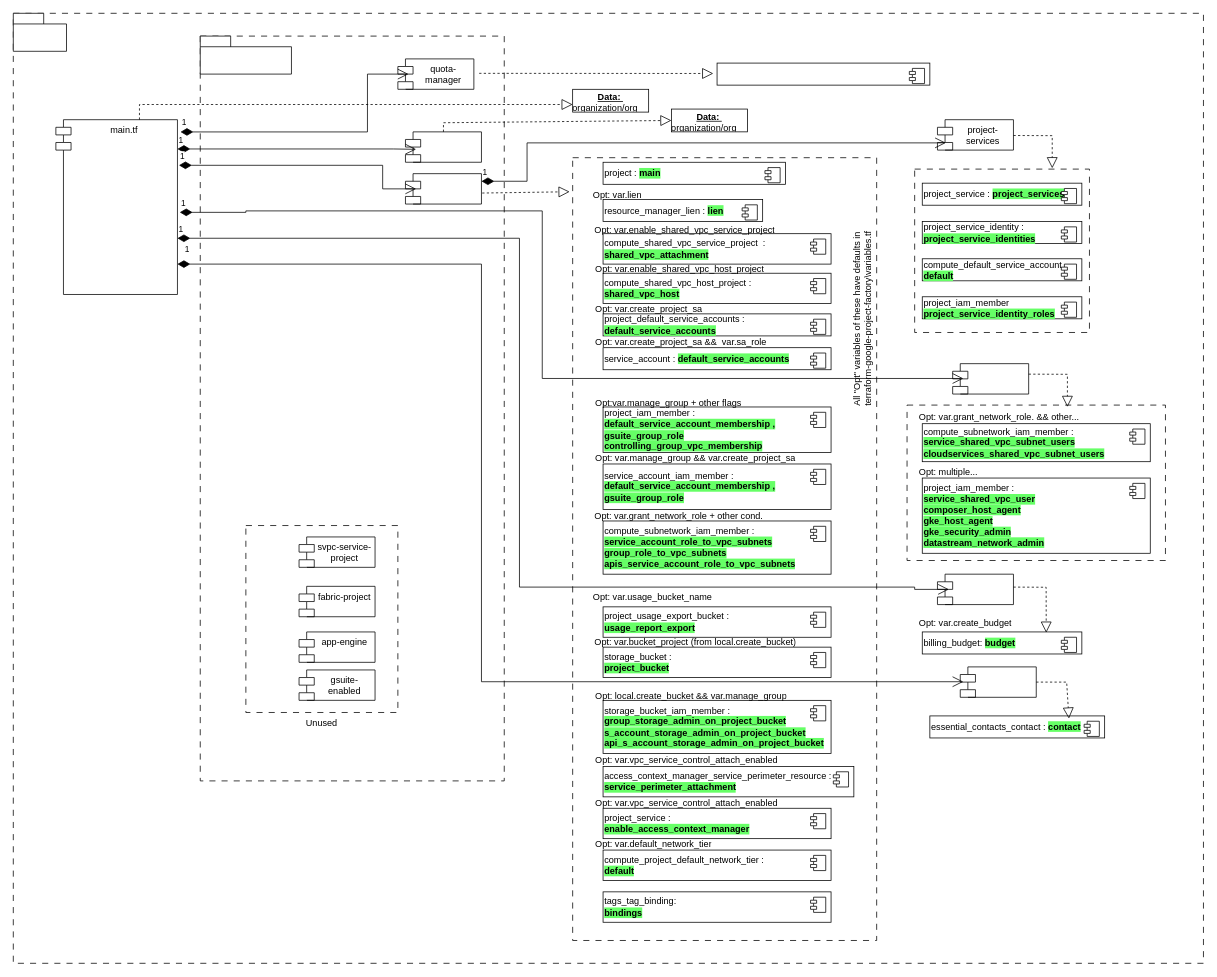
Image size: 1217x977. Some labels were removed from this diagram. Here are the shapes that lost their labels. From the top down, the centre of each, then its label:
At point 39,32: "project-factory".
At point 245,54: "modules".
At point 823,73: "service_usage_consumer_quota_override : override".
At point 443,146: "gsuite-group".
At point 443,188: "core-project-factory".
At point 990,378: "shared-vpc-access".
At point 975,589: "budget".
At point 998,681: "essential-contacts".
